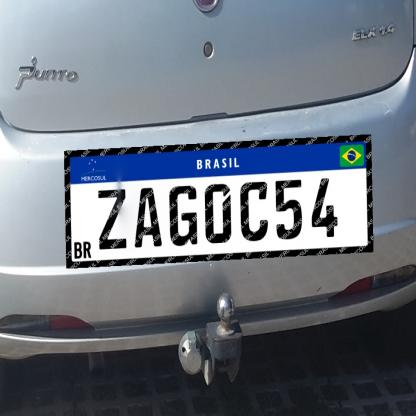PlacaM: (64, 134, 373, 268)
